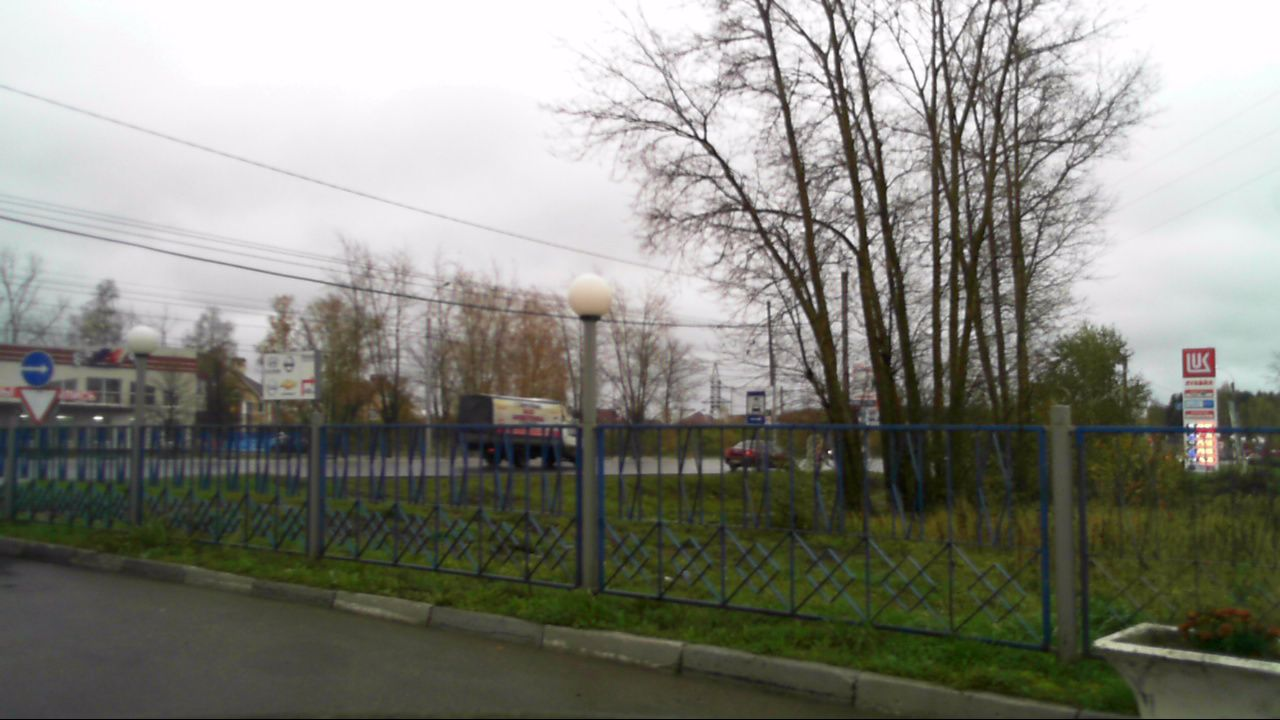Turn Right: (21, 351, 53, 386)
